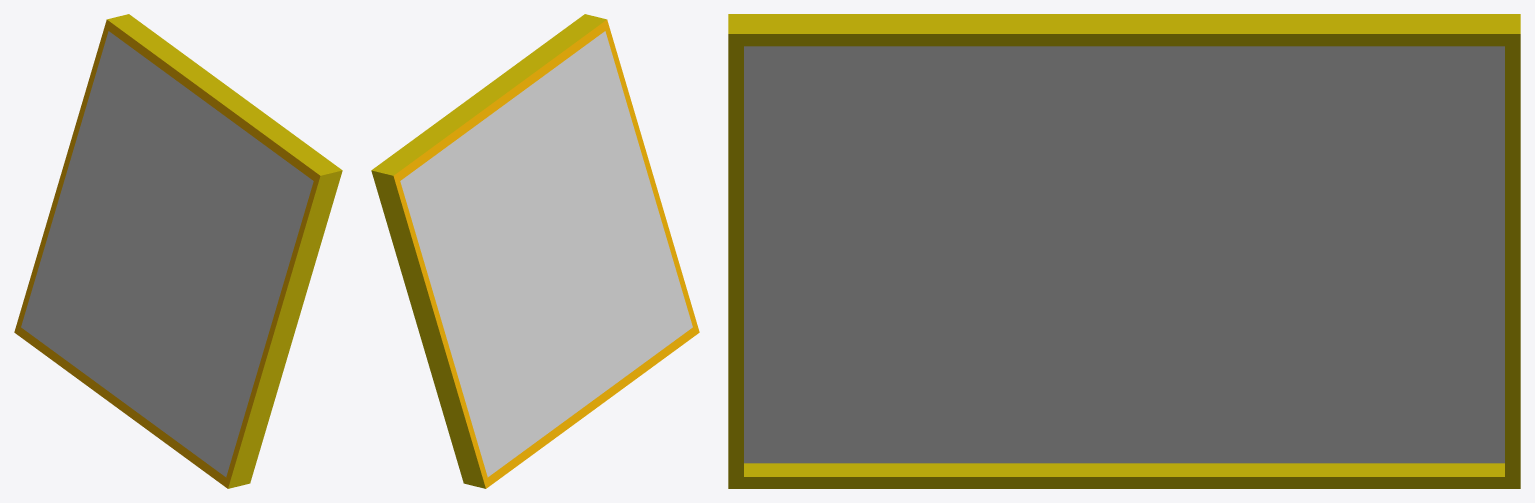
Rendered from window_slanted_4x1x3.dae.
3 views of the same model, side by side, from view 1: azimuth 30°, elevation 25°; view 2: azimuth 150°, elevation 25°; view 3: azimuth 270°, elevation 25° (orthographic). The views are drawn at different scales.
Visible parts, largest first — view 1: Cube; view 2: Cube; view 3: Cube.
Part boxes in pixels (x1,y1,x2,y2): Cube: (14,14,342,488); Cube: (371,14,699,488); Cube: (728,14,1520,488).
Bounding box in the file's own units: 0.31 × 1 × 0.75.
